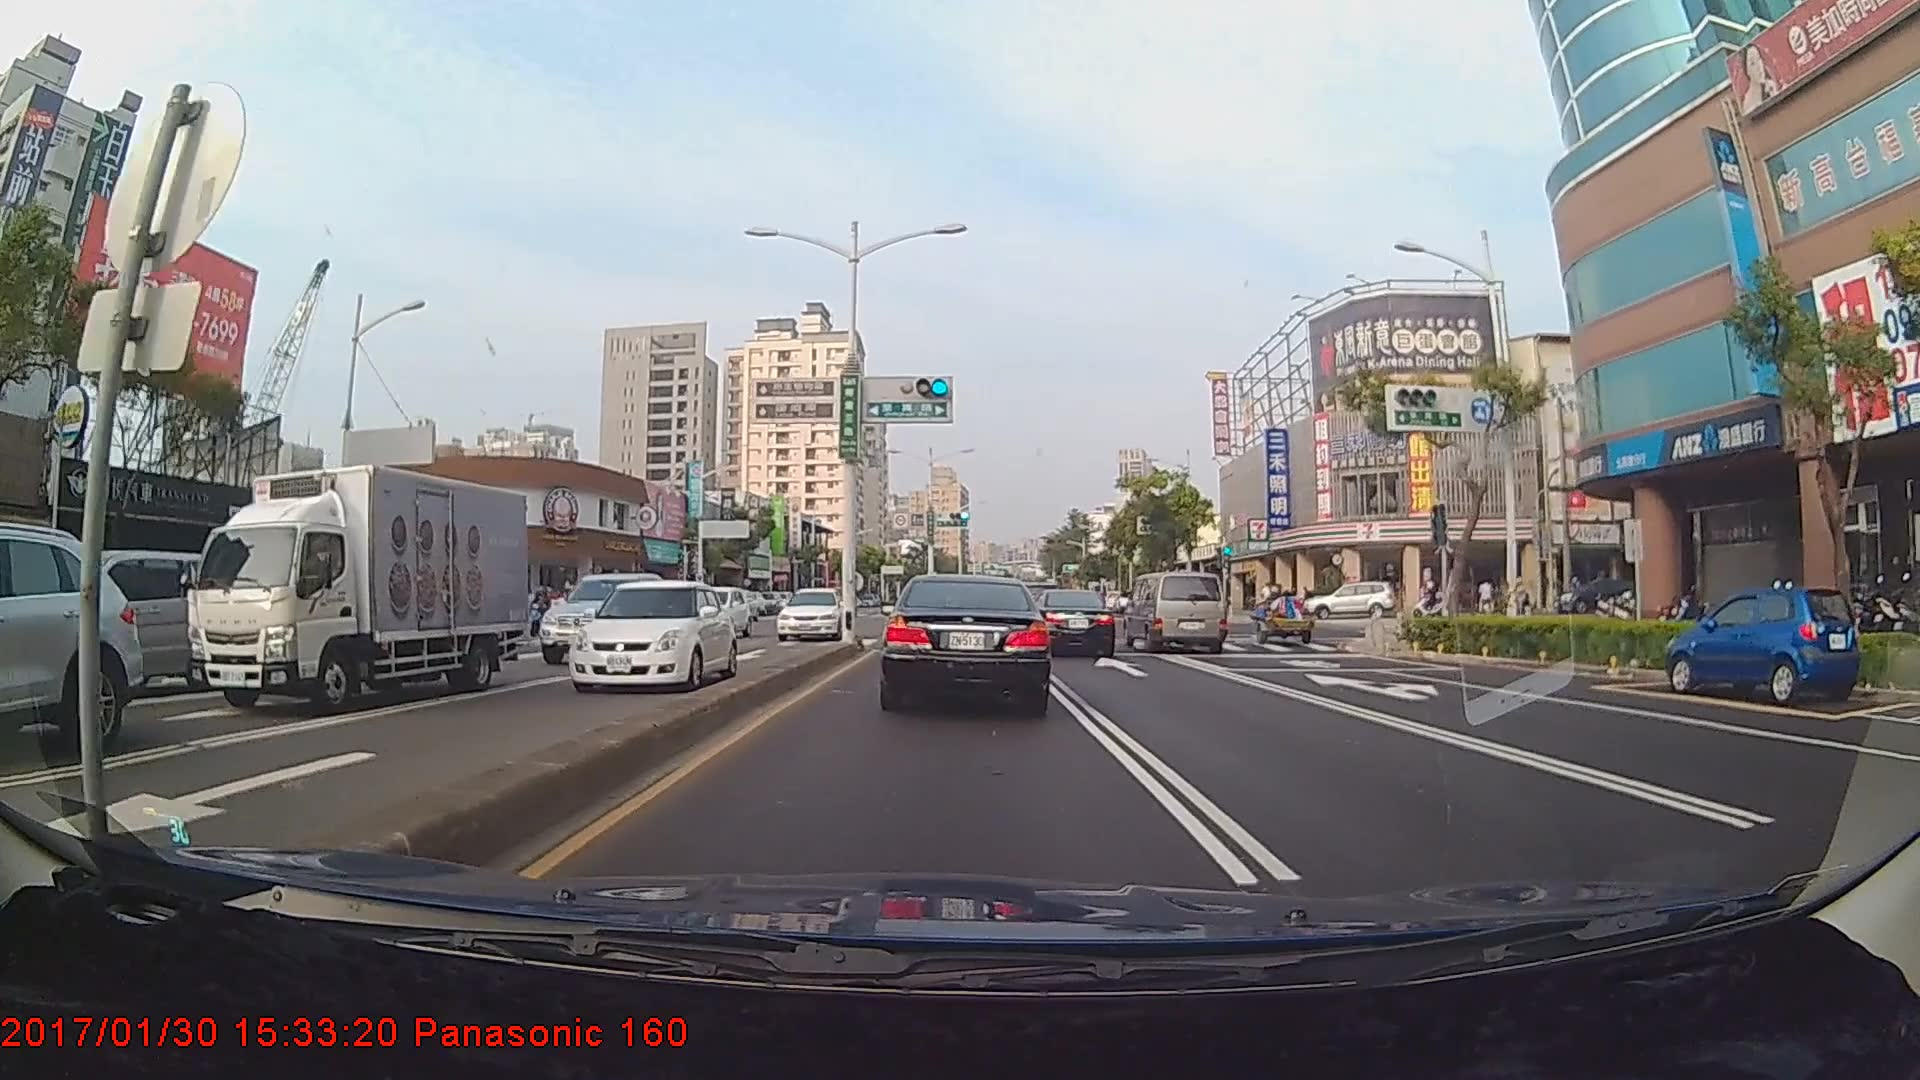vehicle: (174, 454, 538, 720), (0, 520, 138, 771), (30, 546, 225, 690), (1667, 583, 1859, 708), (884, 571, 1050, 712), (564, 578, 738, 691), (535, 566, 674, 662), (1129, 571, 1228, 653), (1033, 589, 1117, 657), (771, 584, 847, 640), (678, 583, 750, 638), (1299, 582, 1398, 621)
